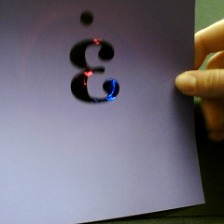violet3: (56, 9, 127, 110)
